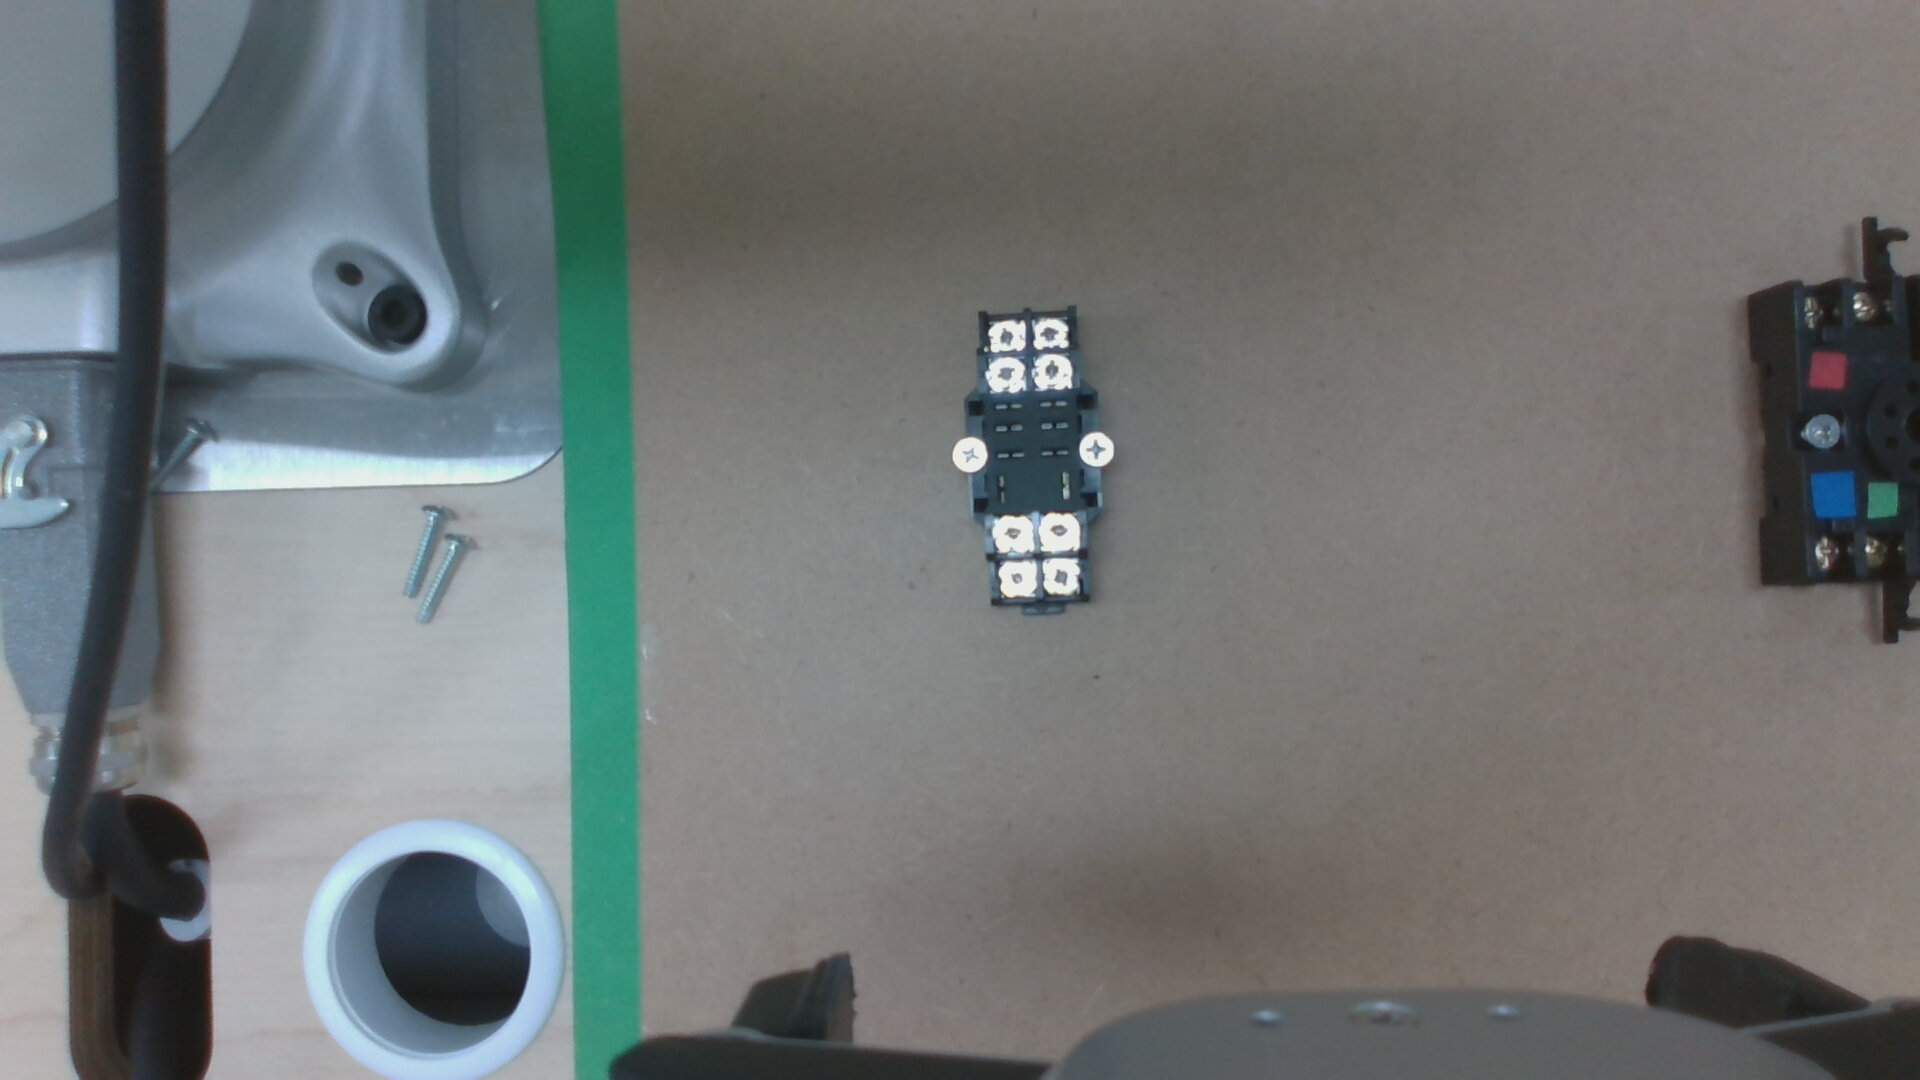relay 3: (1034, 314, 1067, 347)
relay 4: (988, 323, 1022, 349)
relay 5: (1043, 560, 1077, 593)
relay 6: (1000, 562, 1035, 596)
relay 7: (1042, 516, 1079, 549)
relay 8: (996, 516, 1031, 547)
